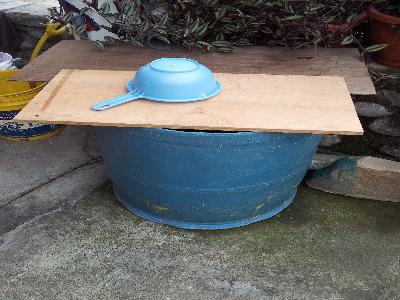bowl: (128, 56, 221, 104)
bucket: (83, 122, 326, 231)
